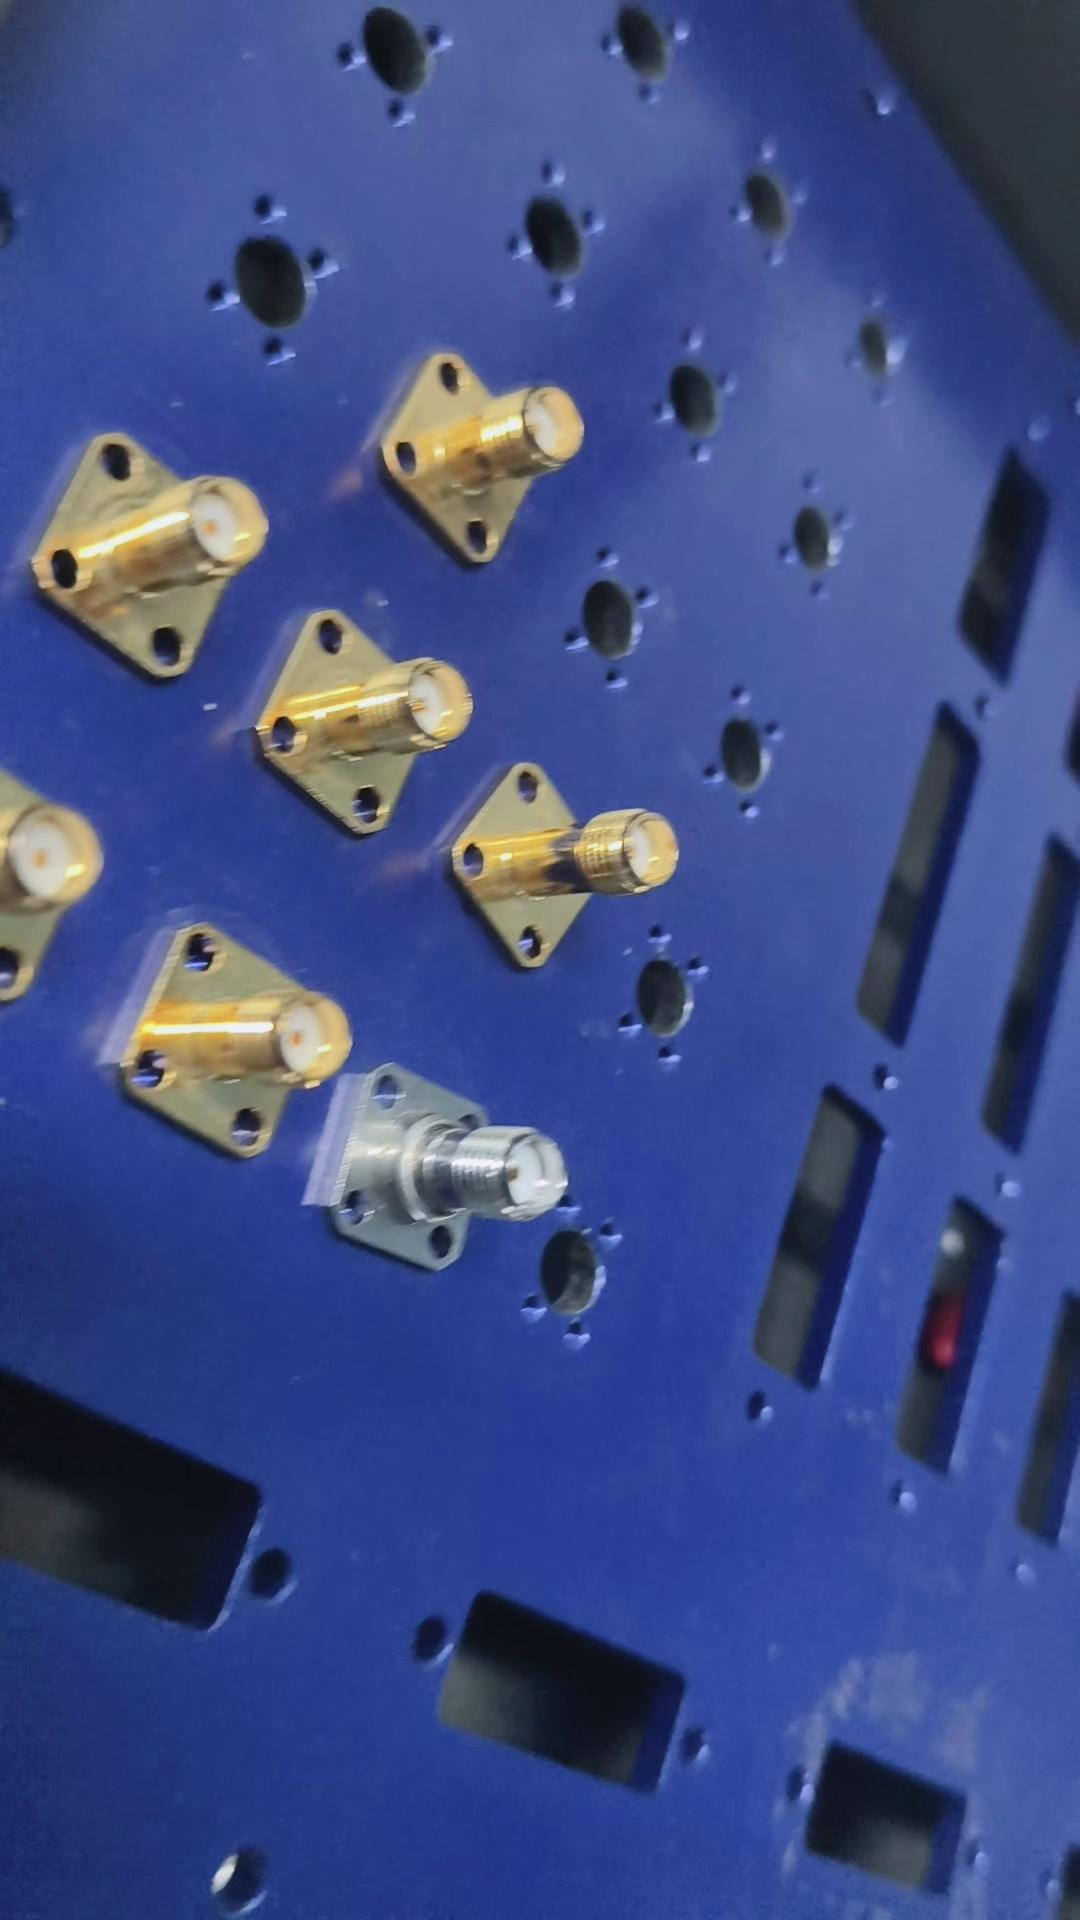SMA: (37, 429, 281, 682), (315, 1036, 571, 1273), (129, 918, 361, 1176), (455, 727, 676, 975), (378, 328, 589, 568), (261, 607, 475, 837)
